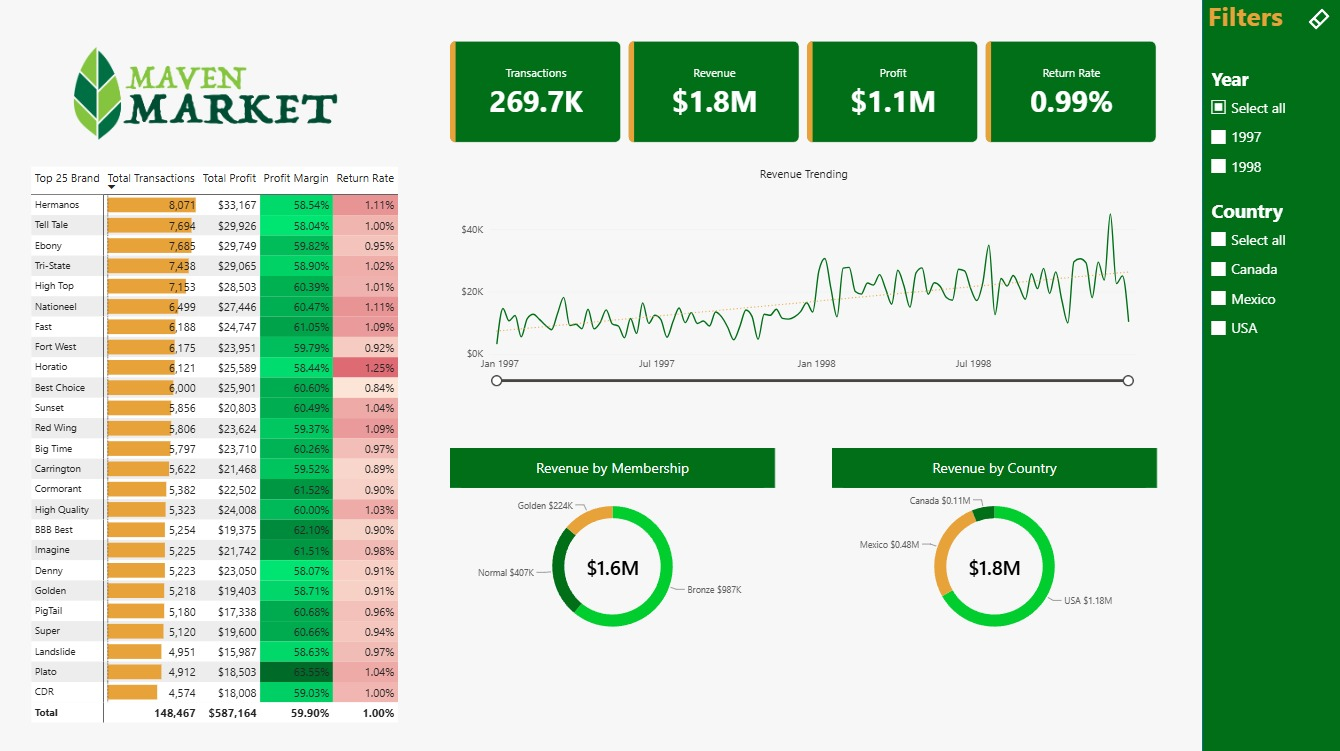

The page's visual inventory and layout, read from the dashboard file:
{"tool":"powerbi","page":{"name":"Exec Dashboard","canvas":[1920,1080],"ordinal":0},"visuals":[{"type":"image","box":[97.1,44.3,395,183.3],"z":0},{"type":"cardVisual","fields":{"Data":["Measures Table.Total Transactions","Measures Table.Total Revenue","Measures Table.Total Profit","Measures Table.Return Rate"]},"box":[645,61.2,1011.4,145.7],"z":1000},{"type":"donutChart","title":"Revenue by Country","fields":{"Category":["Stores.store_country"],"Y":["Measures Table.Total Revenue"]},"box":[1192.1,642.6,464.3,297.1],"z":2000},{"type":"donutChart","title":"Revenue by Membership","fields":{"Category":["Customers.member_card"],"Y":["Measures Table.Total Revenue"]},"box":[645,642.6,464.3,297.1],"z":3000},{"type":"lineChart","title":"Revenue Trending","fields":{"Category":["Calendar.Year Hierarchy.Year","Calendar.Year Hierarchy.Start of Month","Calendar.Year Hierarchy.Start of Week","Calendar.Year Hierarchy.date"],"Y":["Measures Table.Total Revenue"]},"box":[645,225.5,1011.4,342.9],"z":4000},{"type":"pivotTable","fields":{"Rows":["Products.product_brand"],"Values":["Measures Table.Total Transactions","Measures Table.Total Profit","Measures Table.Profit Margin","Measures Table.Return Rate"]},"box":[31.4,227.1,581.4,832.9],"z":5000},{"type":"shape","box":[1720,0,200,1080],"z":5001},{"type":"slicer","fields":{"Values":["Calendar.Year"]},"box":[1725,97.3,132.9,168.6],"z":5002},{"type":"slicer","fields":{"Values":["Stores.store_country"]},"box":[1725,285.9,132.9,234.3],"z":5003},{"type":"textbox","box":[1728.8,0,150,61.4],"z":5004},{"type":"actionButton","box":[1854.3,4.3,65.7,52.9],"z":5005}]}

Visuals, with their boxes on the page's 1920x1080 design canvas (x1, y1, x2, y2). These are canvas units, not pixel positions in the 1340x751 screenshot, which may show the page scaled, cropped or inside an application window:
image: locate(97, 44, 492, 228)
cardVisual - Measures Table.Total Transactions x Measures Table.Total Revenue: locate(645, 61, 1656, 207)
"Revenue by Country" donutChart: locate(1192, 643, 1656, 940)
"Revenue by Membership" donutChart: locate(645, 643, 1109, 940)
"Revenue Trending" lineChart: locate(645, 226, 1656, 568)
pivotTable - Products.product_brand x Measures Table.Total Transactions: locate(31, 227, 613, 1060)
shape: locate(1720, 0, 1920, 1080)
slicer - Calendar.Year: locate(1725, 97, 1858, 266)
slicer - Stores.store_country: locate(1725, 286, 1858, 520)
textbox: locate(1729, 0, 1879, 61)
actionButton: locate(1854, 4, 1920, 57)
